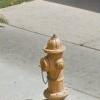Hydrant: (38, 29, 77, 100)
